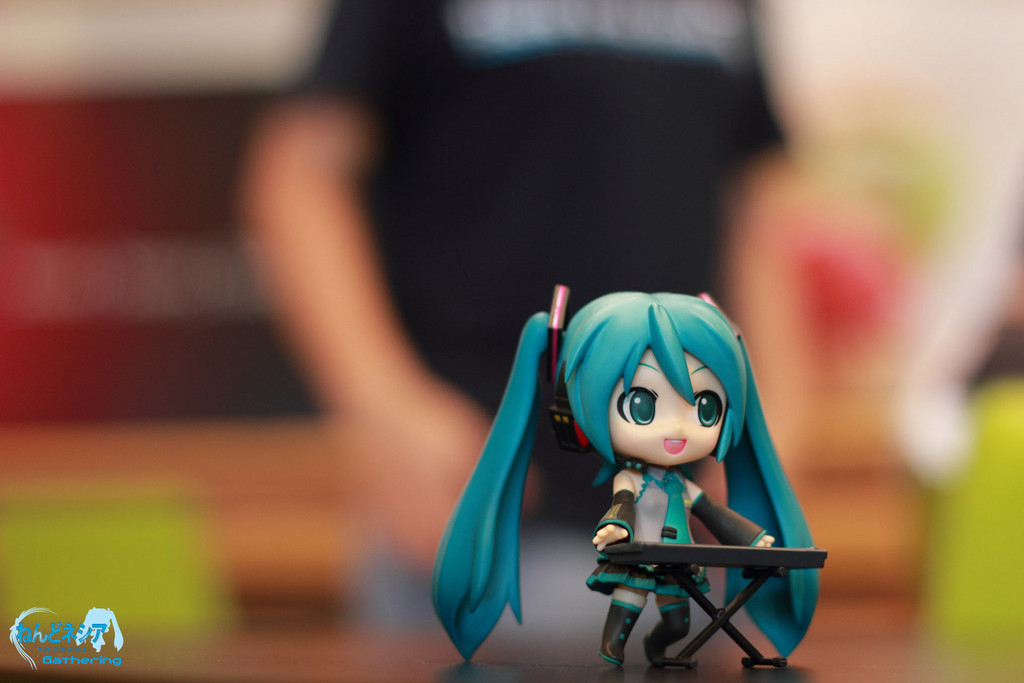Human_hand: (339, 370, 544, 586), (689, 617, 787, 677), (590, 525, 628, 553), (754, 532, 776, 552)
